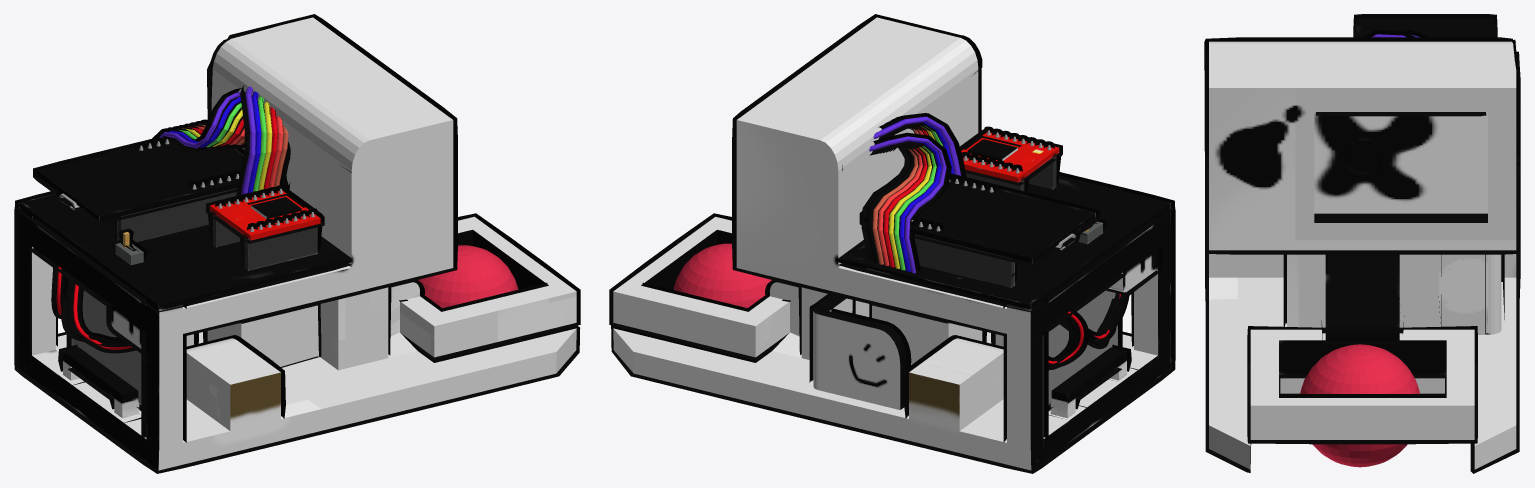
The model's file is TuFu_Ball.glb.
3 views of the same model, side by side, from view 1: azimuth 30°, elevation 25°; view 2: azimuth 150°, elevation 25°; view 3: azimuth 270°, elevation 25° (orthographic). The views are drawn at different scales.
Visible parts, largest first — view 1: Tufu; view 2: Tufu; view 3: Tufu.
Boxes of the visible parts, x1,y1,x2,y2 form: Tufu: [14, 14, 580, 473]; Tufu: [609, 14, 1175, 473]; Tufu: [1204, 14, 1520, 473].
Bounding box in the file's own units: 7.6 × 4.88 × 4.18.
14 materials, 1 textured.
